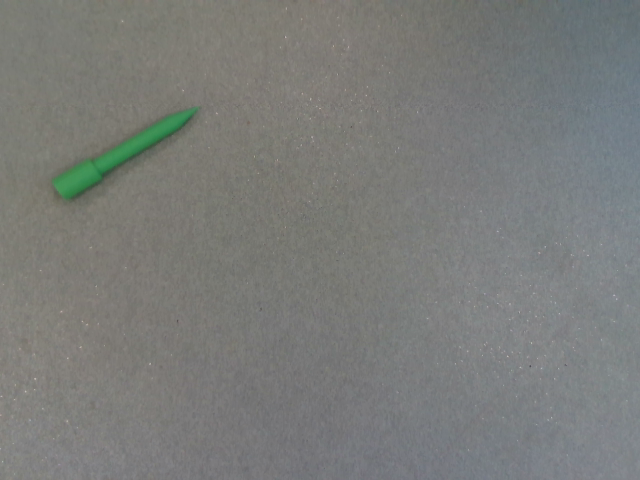Probe: (48, 96, 208, 206)
